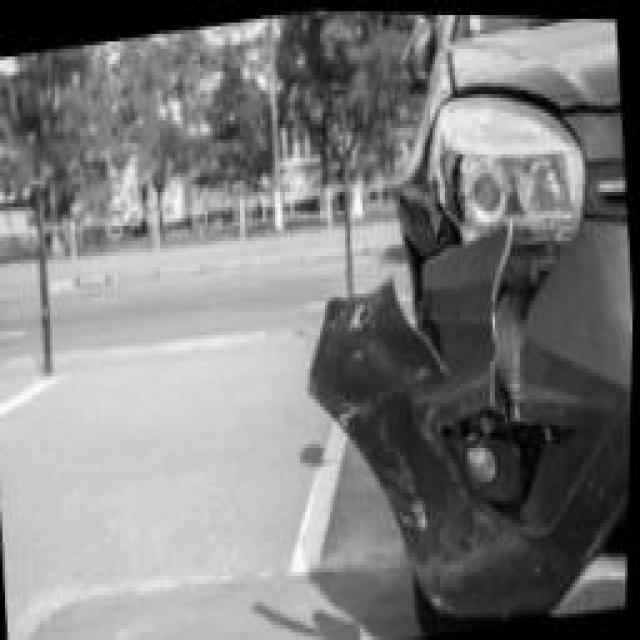Bumper: (306, 210, 634, 624)
